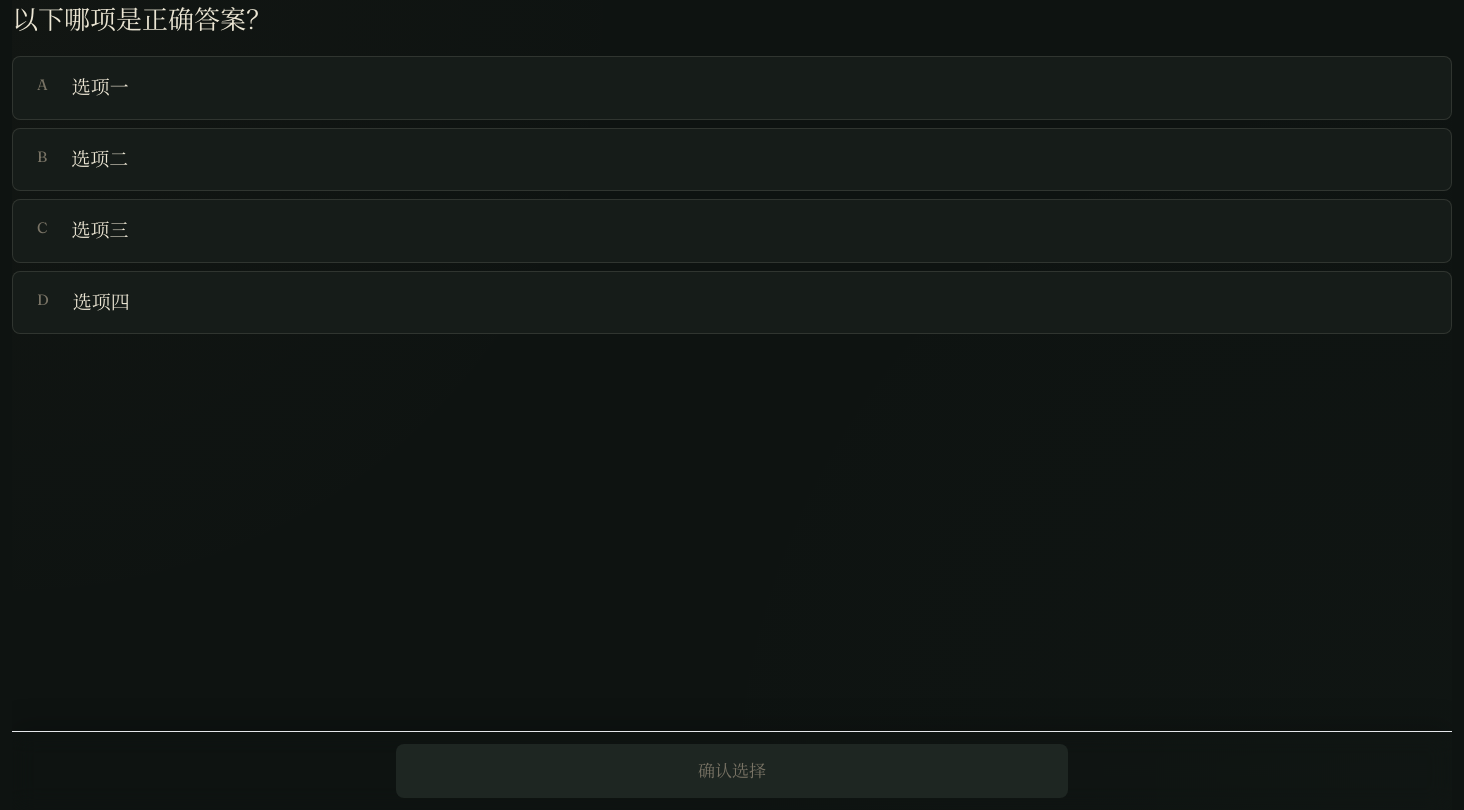
ChoiceQuiz › uses the selected option when a legacy caller omits submittedAnswer
What coordinates should you click on to do the following:
click the button with class "alc-option" showing "A 选项一"
I would click on:
 (100, 87)
Its box is [12,56,1452,120].
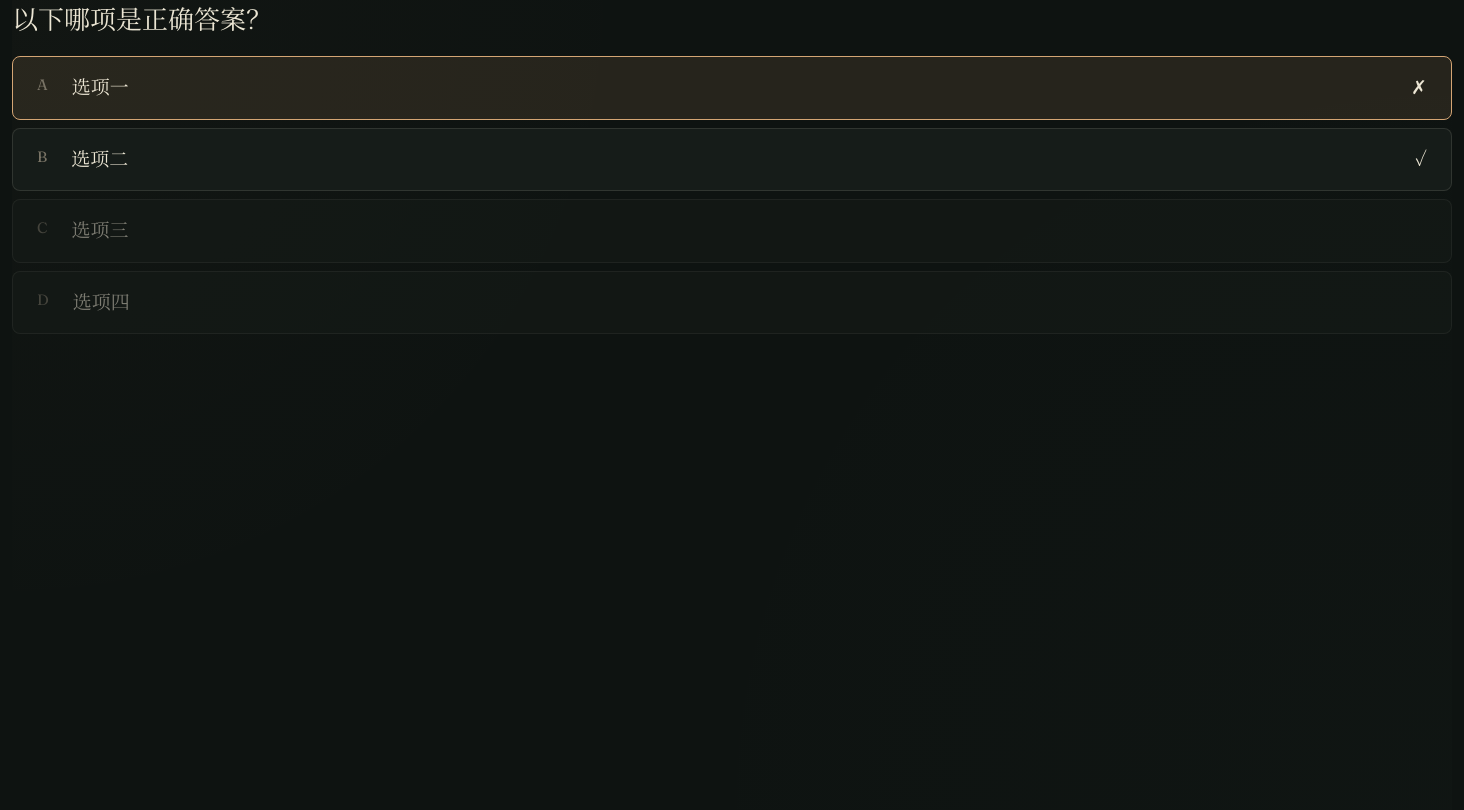
expect the button with class "alc-option" shows "✓": met, box [12,128,1452,191]
expect the button with class "alc-option" shows "✗": met, box [12,56,1452,120]
